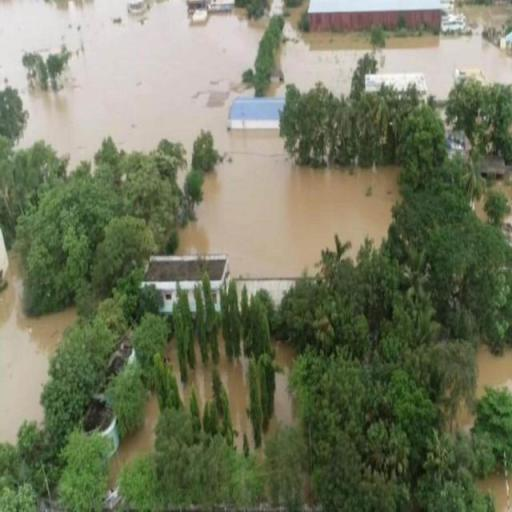flood: (0, 242, 71, 445), (379, 36, 512, 100), (277, 14, 374, 97), (114, 398, 159, 475), (217, 361, 254, 454), (274, 344, 294, 424), (478, 348, 512, 388), (489, 477, 512, 512), (197, 365, 215, 407)
house: (144, 248, 232, 322), (308, 0, 446, 34), (226, 93, 283, 135), (364, 71, 430, 94)
